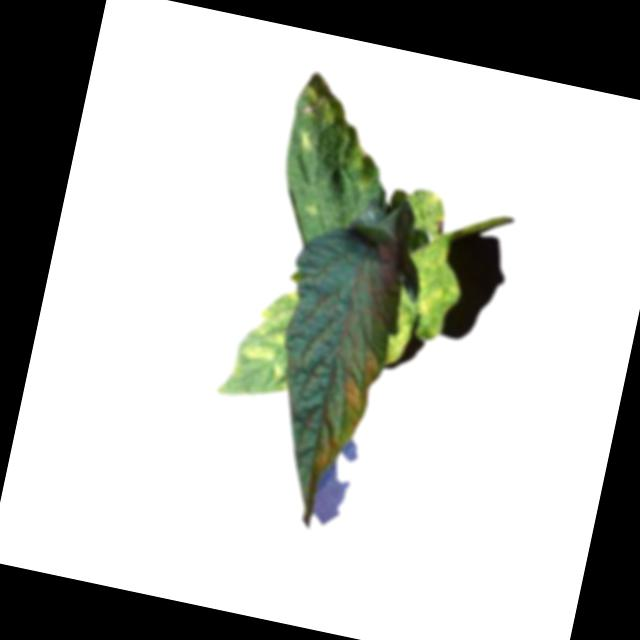Leaf_Mold: (279, 69, 386, 190), (382, 229, 469, 375), (230, 280, 304, 392), (335, 350, 381, 420), (304, 430, 341, 479)
